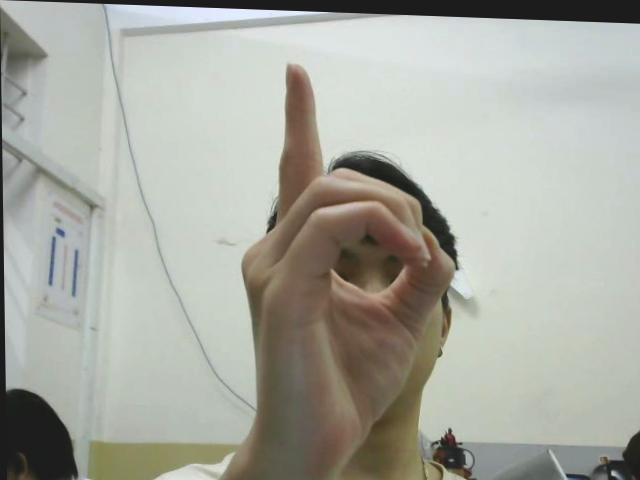D: (234, 55, 462, 457)
